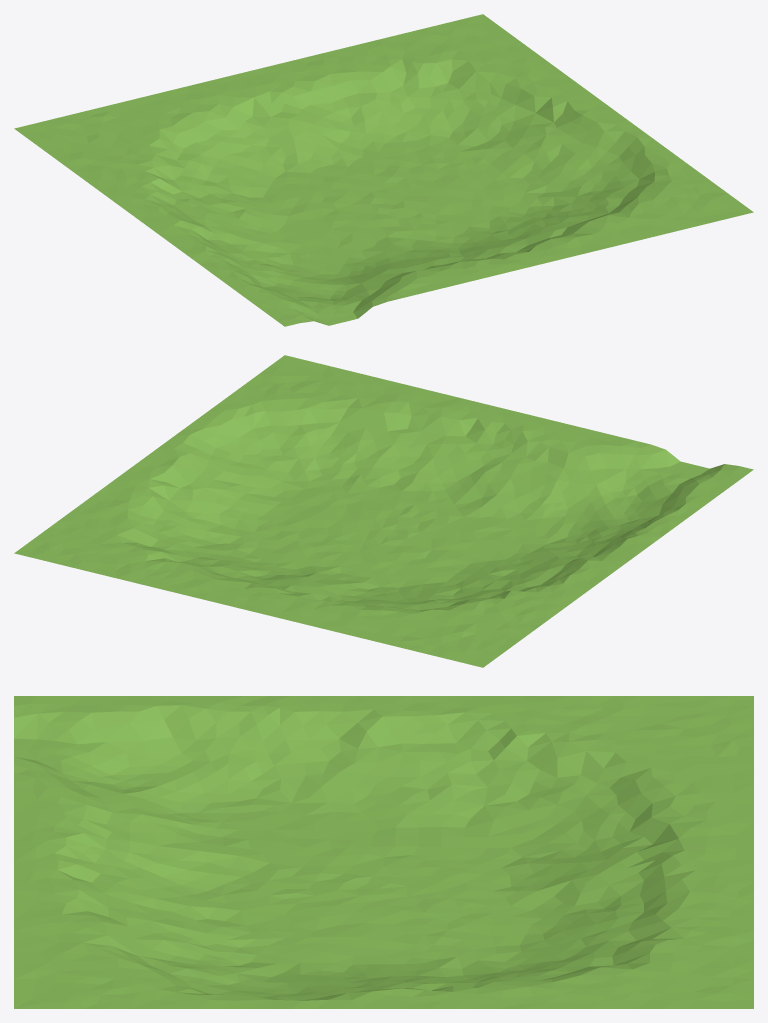
Rendered from MT_River_End_L_a_01.fbx.
The picture shows the model from 3 angles, top to bottom: view 1: azimuth 30°, elevation 25°; view 2: azimuth 150°, elevation 25°; view 3: azimuth 270°, elevation 25°; orthographic projection. The views are drawn at different scales.
Visible parts, largest first — view 1: MT_River_End_L_a_01; view 2: MT_River_End_L_a_01; view 3: MT_River_End_L_a_01.
Part boxes in pixels (box(x1,y1,x2,y2)): MT_River_End_L_a_01: box(14, 14, 753, 326); MT_River_End_L_a_01: box(14, 355, 753, 667); MT_River_End_L_a_01: box(14, 696, 753, 1008).
Bounding box in the file's own units: 10000 × 560 × 10000.
